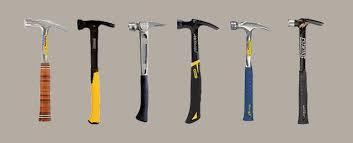hammer: (21, 14, 68, 123), (227, 17, 272, 122)
